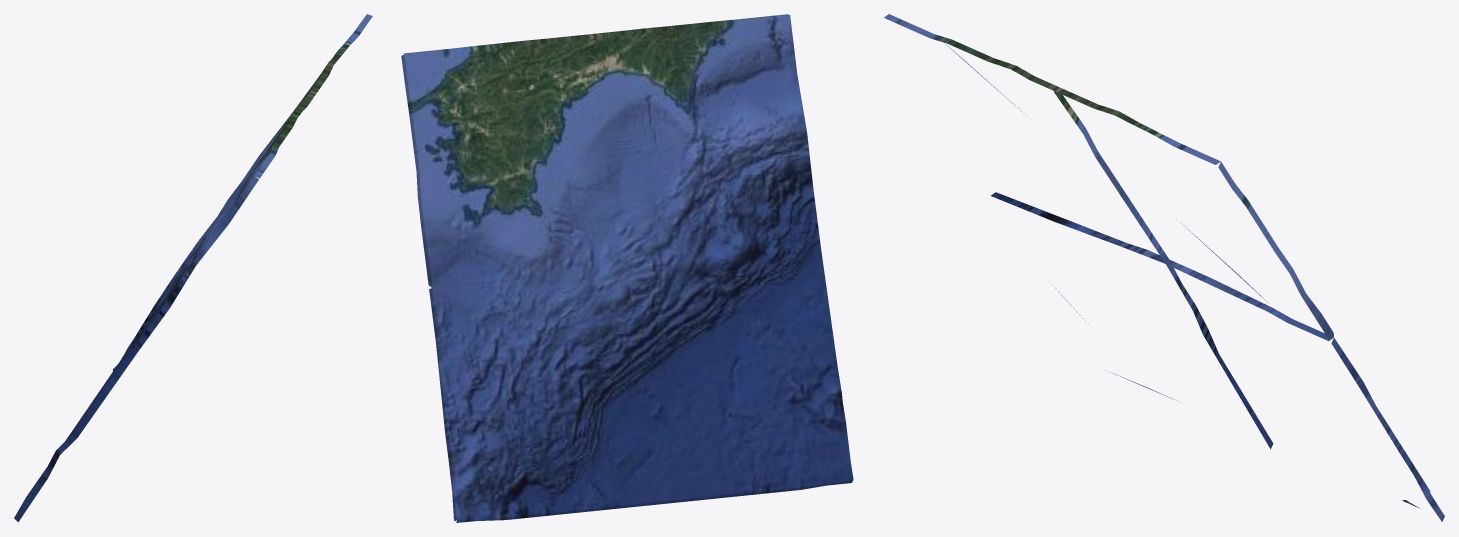
The picture shows the model from 3 angles, left to right: view 1: azimuth 30°, elevation 25°; view 2: azimuth 150°, elevation 25°; view 3: azimuth 270°, elevation 25°; orthographic projection. The views are drawn at different scales.
Bounding box in the file's own units: 308170 × 271432 × 306737.
Materials: 1 (1 with a texture image).
